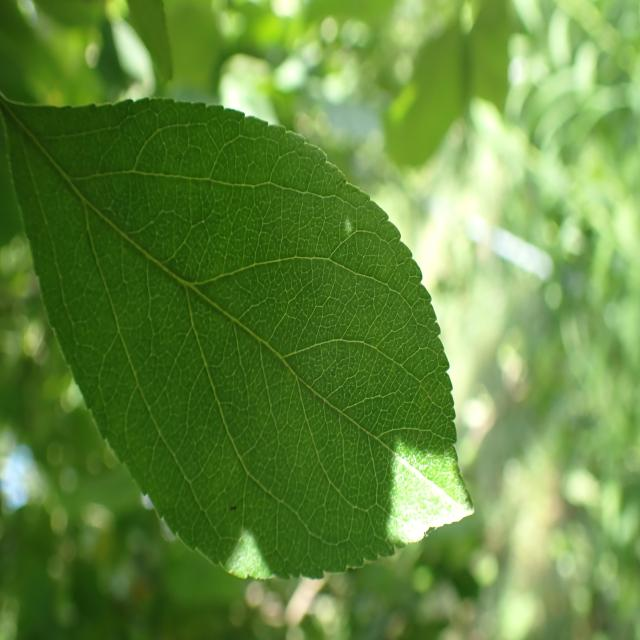healthy: (1, 93, 475, 582)
